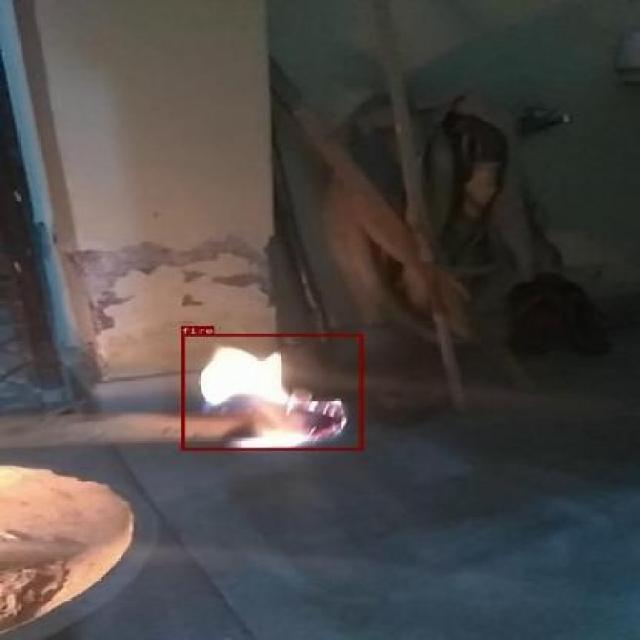Fire: (180, 333, 362, 450)
